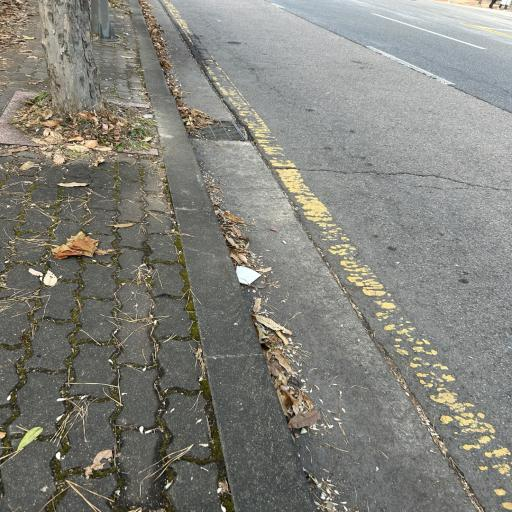debris: (185, 121, 212, 136)
drain: (185, 121, 248, 141)
